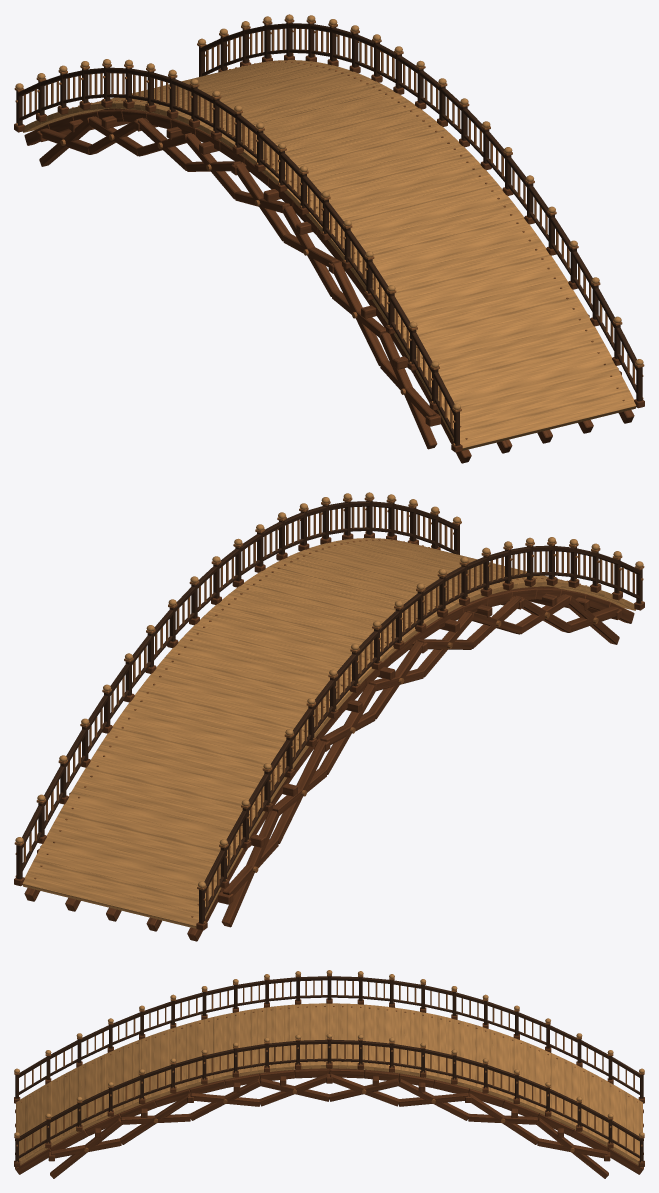
File: hongqiao-refined.glb
The picture shows the model from 3 angles, top to bottom: view 1: azimuth 30°, elevation 25°; view 2: azimuth 150°, elevation 25°; view 3: azimuth 270°, elevation 25°; orthographic projection. The views are drawn at different scales.
Parts seen in each view (by area): view 1: 虹桥-浅木桥板, 虹桥-暖棕拱架, 虹桥-深木栏杆, 虹桥-木销端面; view 2: 虹桥-浅木桥板, 虹桥-暖棕拱架, 虹桥-深木栏杆, 虹桥-木销端面; view 3: 虹桥-浅木桥板, 虹桥-暖棕拱架, 虹桥-深木栏杆, 虹桥-木销端面.
Part boxes in pixels (box(x1,y1,x2,y2)): 虹桥-浅木桥板: box(15, 14, 643, 450); 虹桥-暖棕拱架: box(14, 54, 644, 463); 虹桥-深木栏杆: box(16, 22, 642, 445); 虹桥-木销端面: box(14, 18, 644, 445); 虹桥-浅木桥板: box(15, 492, 643, 928); 虹桥-暖棕拱架: box(14, 532, 644, 941); 虹桥-深木栏杆: box(16, 500, 642, 923); 虹桥-木销端面: box(14, 496, 644, 923); 虹桥-浅木桥板: box(14, 970, 644, 1165); 虹桥-暖棕拱架: box(14, 998, 644, 1178); 虹桥-深木栏杆: box(15, 976, 643, 1162); 虹桥-木销端面: box(14, 974, 644, 1162).
Size of the model in its own units: 6.95 by 6.86 by 27.27.
4 materials, 4 textured.
